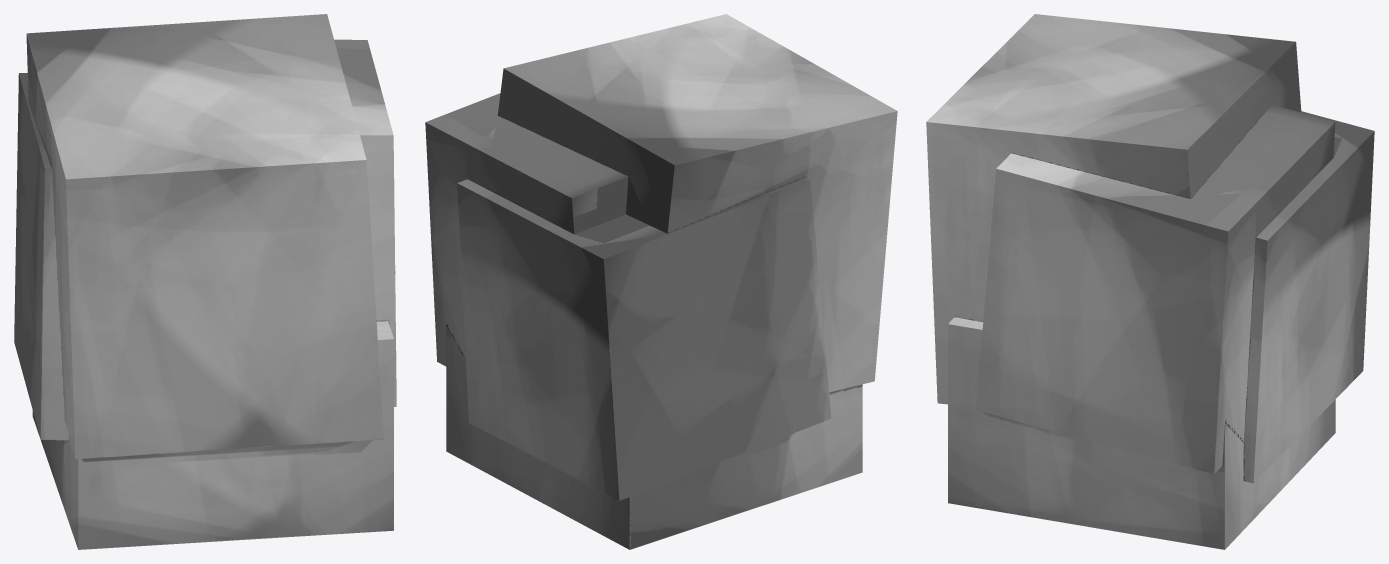
File: Chalkvein.S.fbx
The picture shows the model from 3 angles, left to right: view 1: azimuth 30°, elevation 25°; view 2: azimuth 150°, elevation 25°; view 3: azimuth 270°, elevation 25°; orthographic projection. The views are drawn at different scales.
Visible parts, largest first — view 1: Chalkvein.S; view 2: Chalkvein.S; view 3: Chalkvein.S.
Boxes of the visible parts, <box> form: Chalkvein.S: <box>14,14,396,549</box>; Chalkvein.S: <box>425,14,897,549</box>; Chalkvein.S: <box>926,14,1374,549</box>.
Bounding box in the file's own units: 4.54 × 4.43 × 4.26.
1 material, 1 textured.
